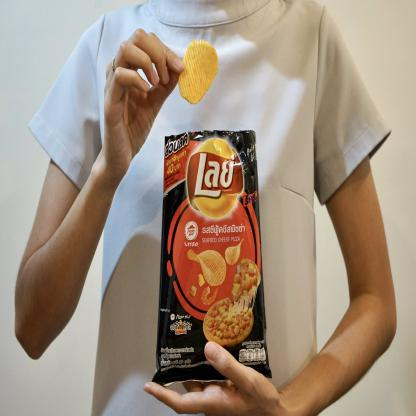potatochip: (146, 123, 274, 392)
